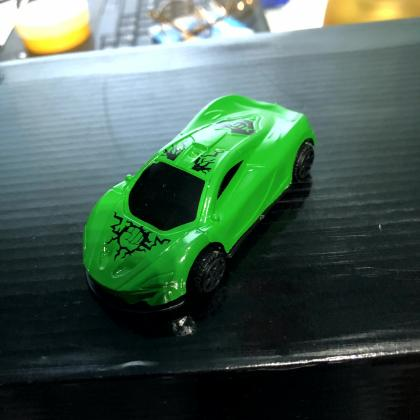Car: (74, 89, 319, 326)
